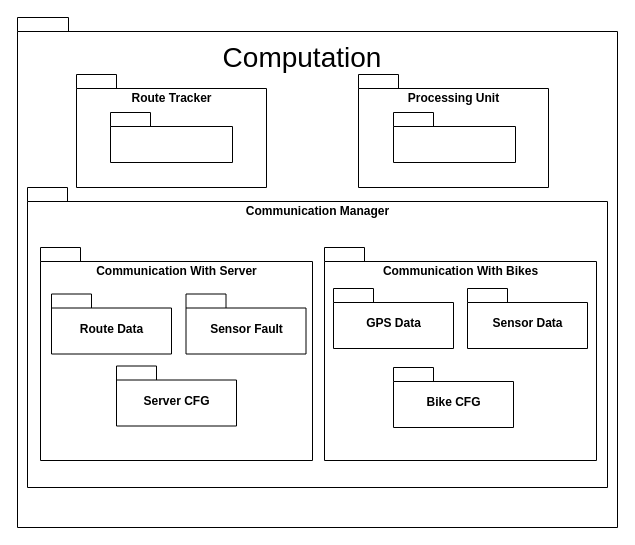
This 635x545 diagram has some shape labels left out. Here are the shapes that lost their labels. From the top down, the centre of each, then its label:
At [171,137]: "GPS Database".
At [454,137]: "Bike Parameters".
